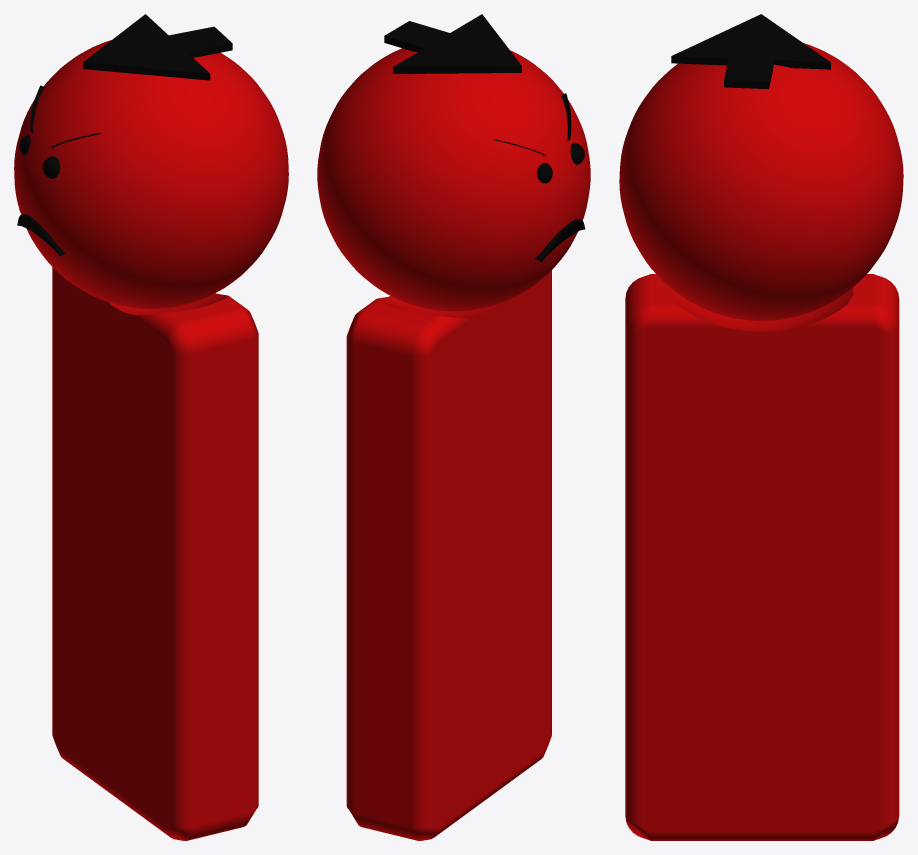
File: red_angry.obj
3 views of the same model, side by side, from view 1: azimuth 30°, elevation 25°; view 2: azimuth 150°, elevation 25°; view 3: azimuth 270°, elevation 25° (orthographic). The views are drawn at different scales.
Visible parts, largest first — view 1: 1_Curve.002_Curve.003, 5.002_Curve.002_Curve.003_5.002_Curve.002_Curve.003; view 2: 1_Curve.002_Curve.003, 5.002_Curve.002_Curve.003_5.002_Curve.002_Curve.003; view 3: 1_Curve.002_Curve.003, 5.002_Curve.002_Curve.003_5.002_Curve.002_Curve.003.
Part boxes in pixels (x1,y1,x2,y2): 1_Curve.002_Curve.003: (14, 40, 288, 840); 5.002_Curve.002_Curve.003_5.002_Curve.002_Curve.003: (17, 14, 232, 256); 1_Curve.002_Curve.003: (317, 48, 590, 840); 5.002_Curve.002_Curve.003_5.002_Curve.002_Curve.003: (384, 14, 585, 261); 1_Curve.002_Curve.003: (619, 43, 903, 840); 5.002_Curve.002_Curve.003_5.002_Curve.002_Curve.003: (671, 14, 830, 89).
Size of the model in its own units: 0.1677 by 0.4993 by 0.1661.
